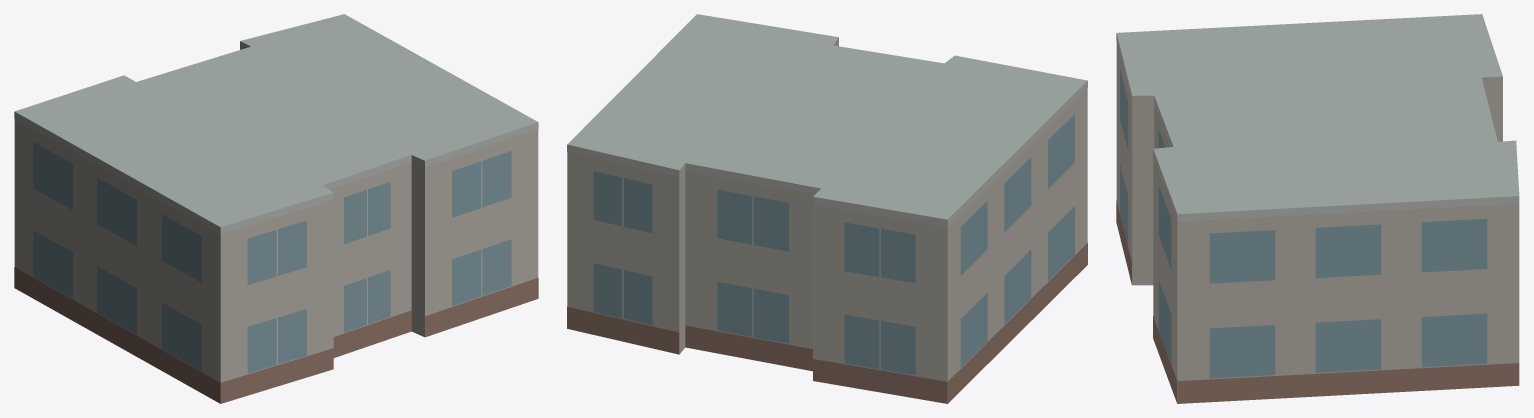
File: survey-upis-32680341.glb
The picture shows the model from 3 angles, left to right: view 1: azimuth 30°, elevation 25°; view 2: azimuth 150°, elevation 25°; view 3: azimuth 270°, elevation 25°; orthographic projection. The views are drawn at different scales.
Visible parts, largest first — view 1: survey-upis-32680341.tmp; view 2: survey-upis-32680341.tmp; view 3: survey-upis-32680341.tmp.
Part boxes in pixels (x1,y1,x2,y2): survey-upis-32680341.tmp: (14,14,538,403); survey-upis-32680341.tmp: (567,14,1087,403); survey-upis-32680341.tmp: (1116,14,1519,403).
Size of the model in its own units: 13.82 by 6.1 by 11.76.
